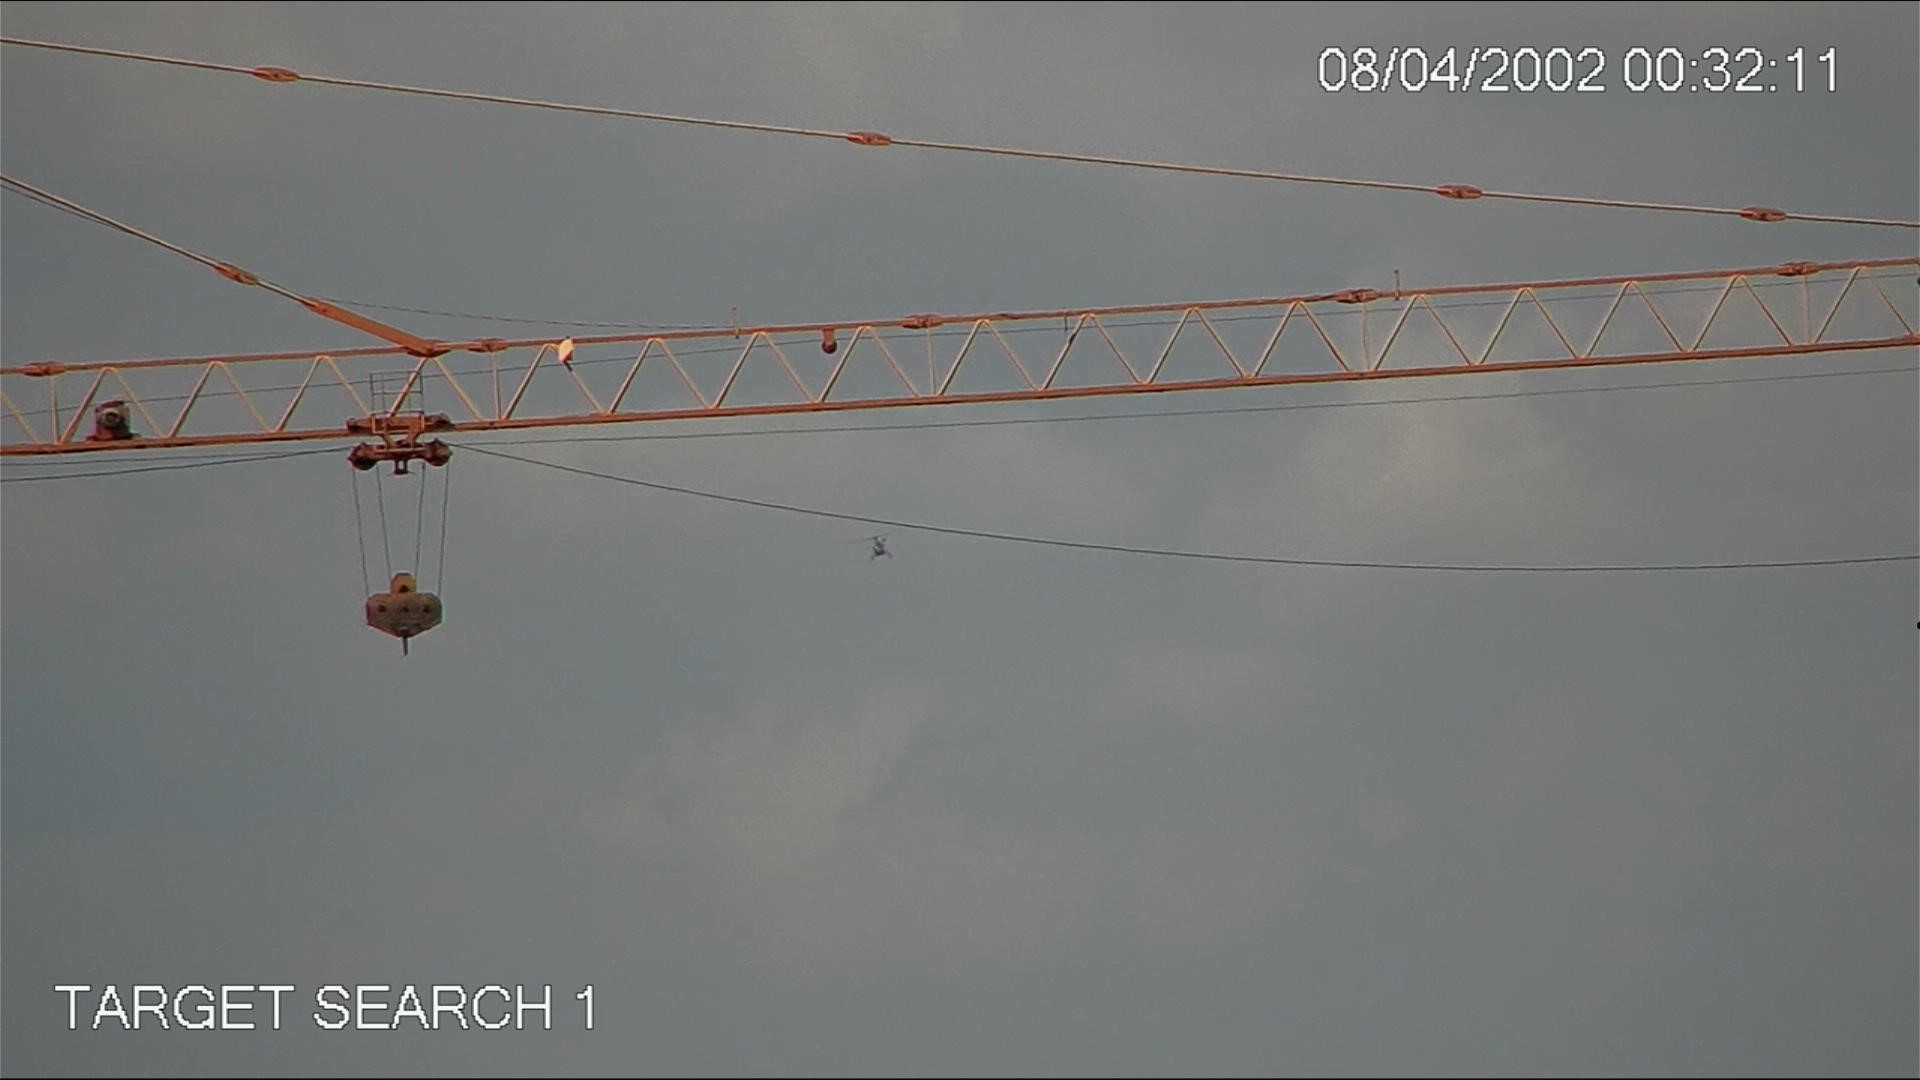SU_30: (855, 527, 903, 568)
